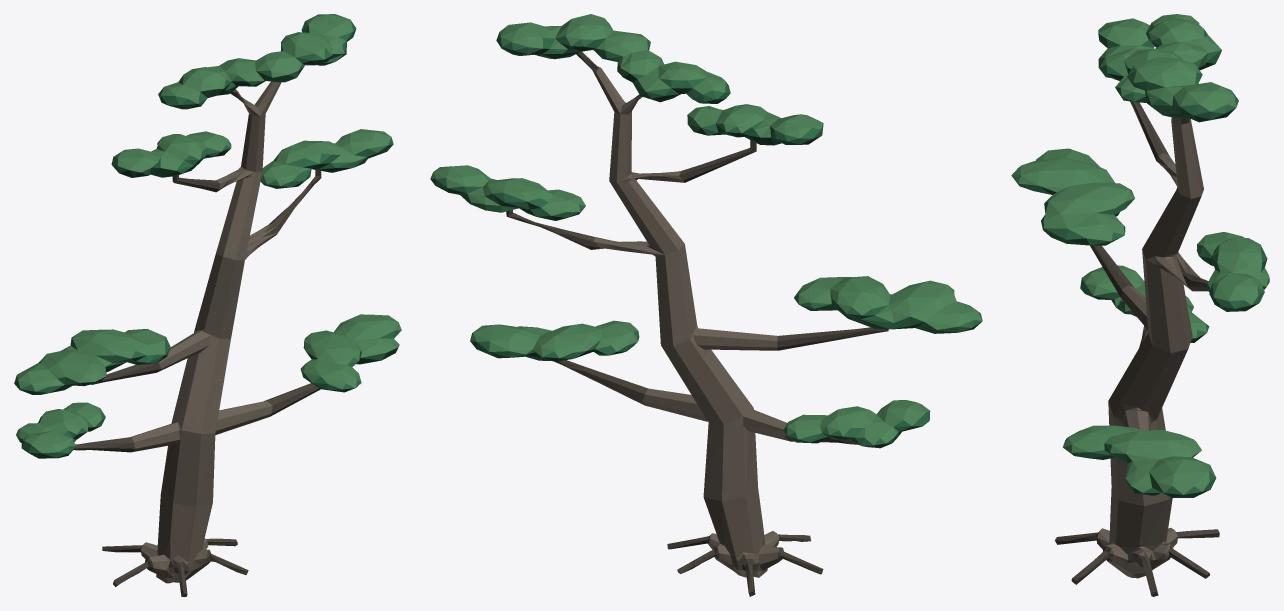
File: ancient-pine-4119-lod1.glb
3 renders of one model, left to right at view 1: azimuth 30°, elevation 25°; view 2: azimuth 150°, elevation 25°; view 3: azimuth 270°, elevation 25°, orthographic. The views are drawn at different scales.
Parts seen in each view (by area): view 1: n12.005, n8.005, n11.005, n9.005, n10.005; view 2: n12.005, n8.005, n11.005, n9.005, n10.005; view 3: n12.005, n8.005, n11.005, n9.005, n10.005.
Part boxes in pixels (left/top/right/bottom): n12.005: left=16, top=14, right=401, bottom=453; n8.005: left=131, top=81, right=281, bottom=583; n11.005: left=14, top=20, right=401, bottom=457; n9.005: left=73, top=89, right=321, bottom=596; n10.005: left=15, top=38, right=399, bottom=458; n12.005: left=430, top=14, right=982, bottom=444; n8.005: left=592, top=68, right=790, bottom=577; n11.005: left=430, top=19, right=982, bottom=445; n9.005: left=506, top=51, right=888, bottom=596; n10.005: left=436, top=41, right=981, bottom=448; n12.005: left=1011, top=14, right=1269, bottom=494; n8.005: left=1097, top=117, right=1203, bottom=578; n11.005: left=1019, top=23, right=1269, bottom=494; n9.005: left=1055, top=101, right=1219, bottom=596; n10.005: left=1013, top=34, right=1266, bottom=497.
Bounding box in the file's own units: 5.09 × 5.45 × 2.14.
